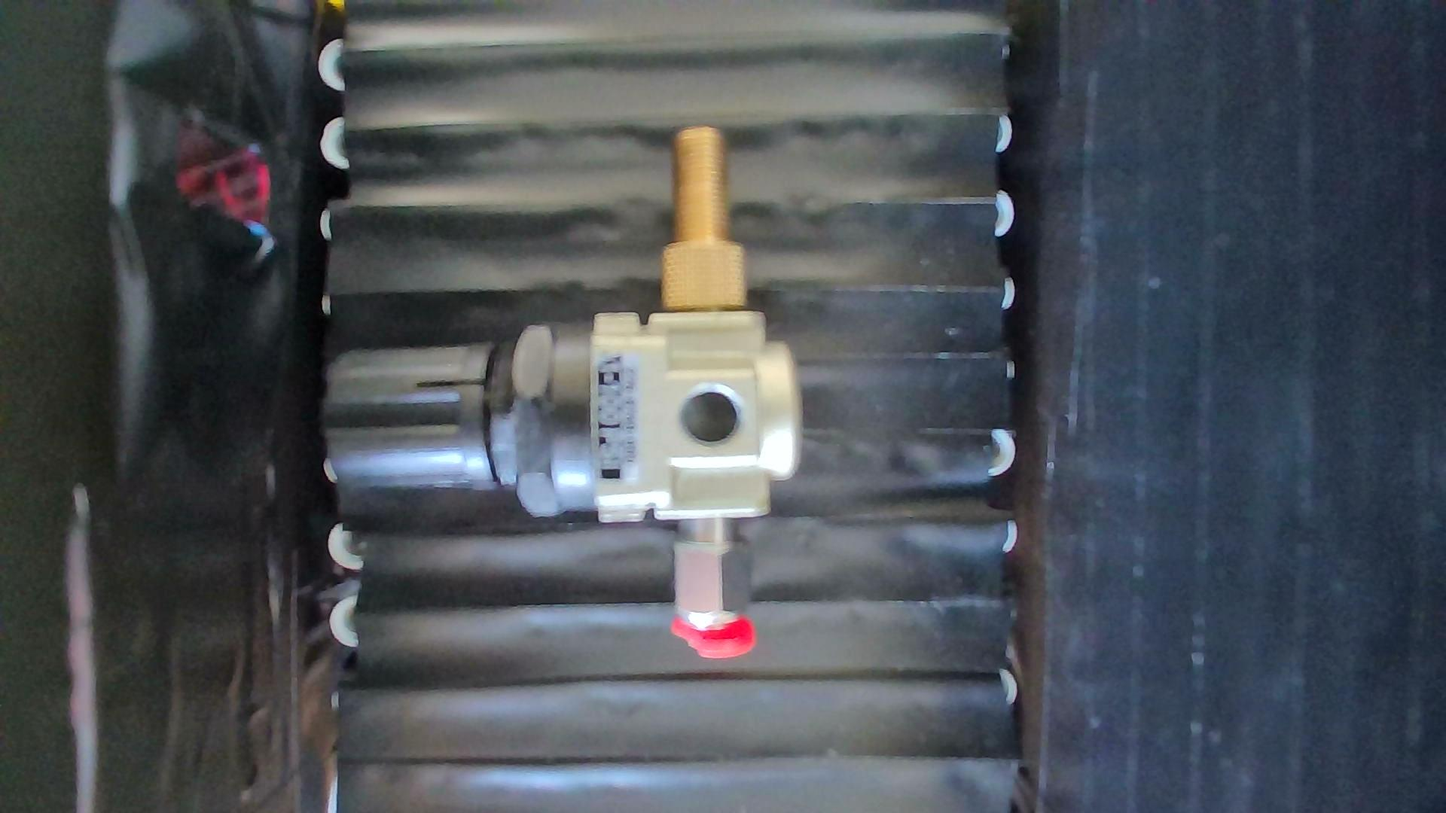regulator: (321, 125, 803, 660)
